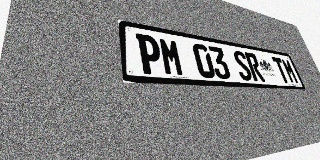0: (191, 43, 216, 79)
3: (208, 46, 232, 80)
M: (158, 37, 185, 77), (280, 58, 299, 84)
P: (136, 33, 164, 75)
R: (244, 52, 266, 82)
S: (232, 50, 254, 81)
T: (271, 57, 291, 83)
